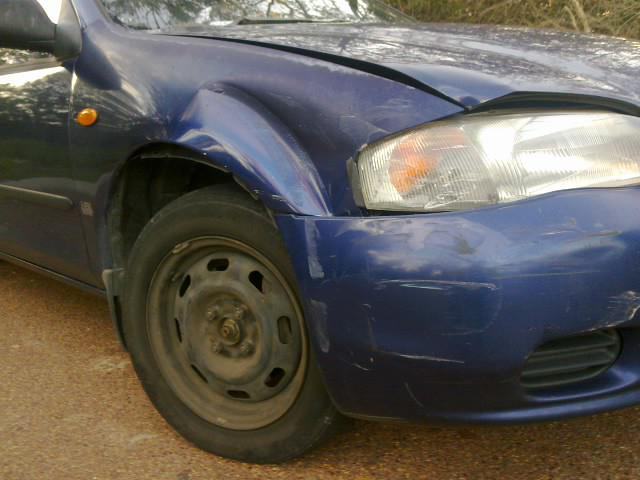bonnet-dent: (212, 0, 639, 125)
fender-dent: (56, 14, 415, 219)
front-bumper-dent: (306, 216, 639, 431)
